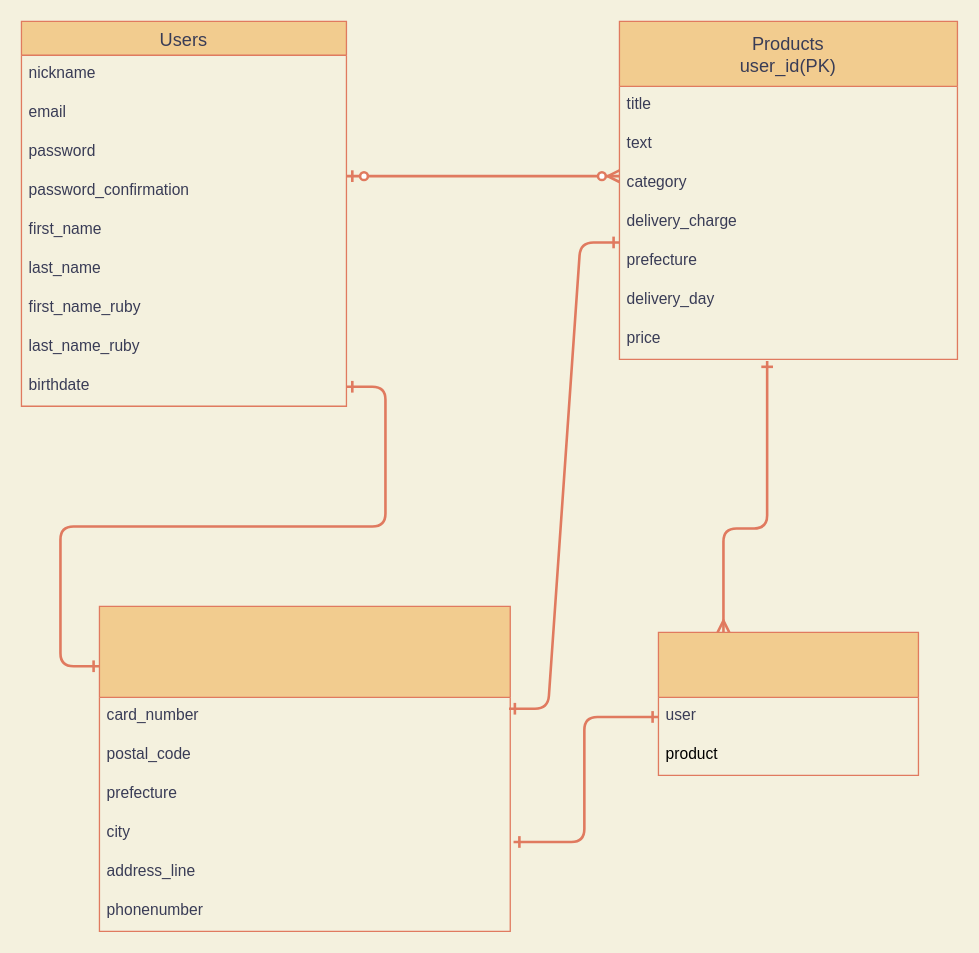
The diagram is 979 pixels wide and 953 high, and some of its shapes have lost their labels. Each missing label, with the box of its shape:
Addresses: (98, 605, 510, 931)
Purchasers: (657, 631, 918, 775)
